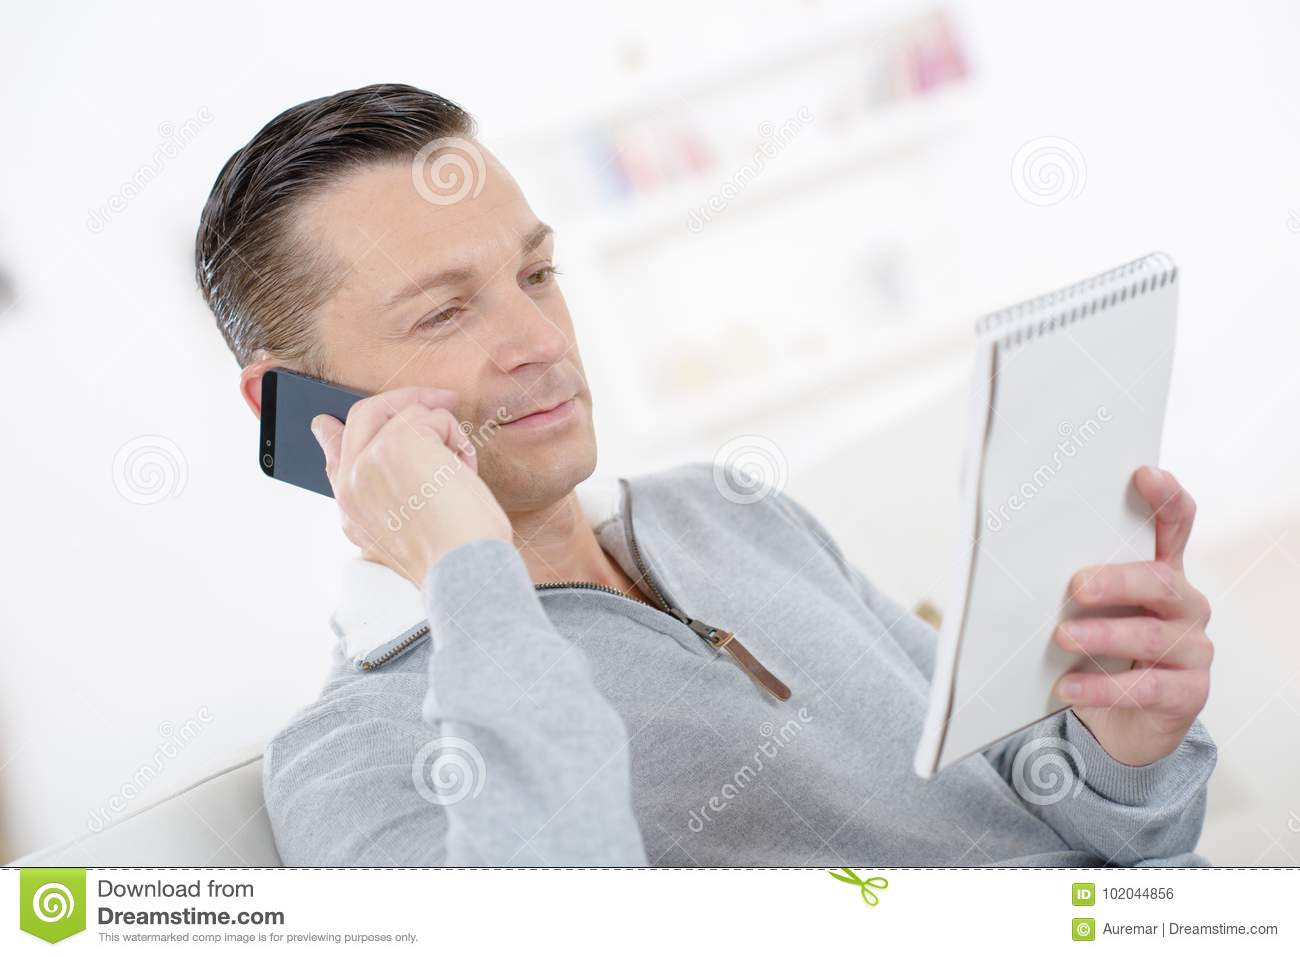phone: (262, 369, 384, 509)
talk: (261, 200, 601, 604)
